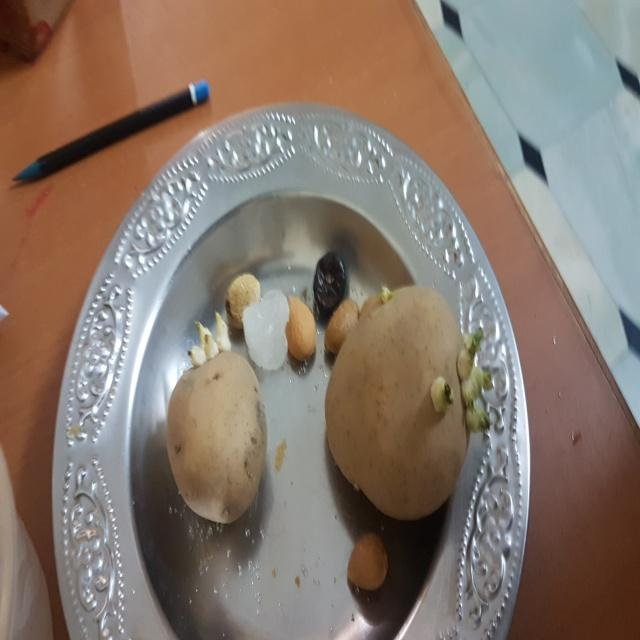potato: (320, 285, 515, 521), (145, 314, 282, 536)
